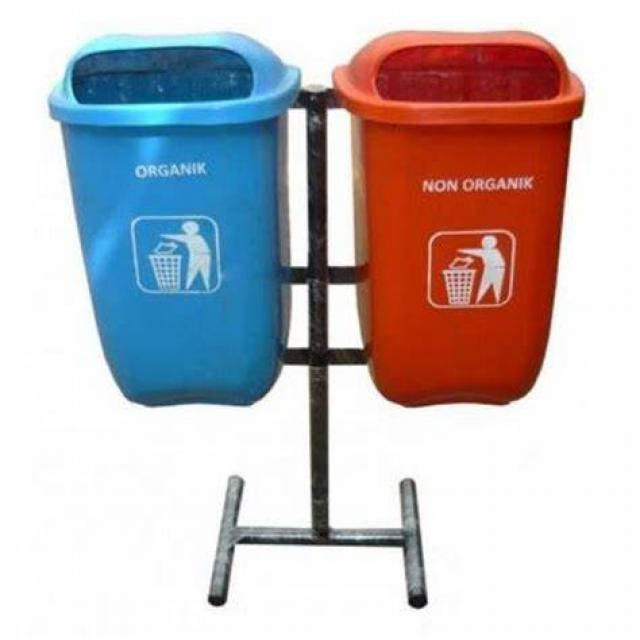garbage container: (35, 15, 327, 466), (338, 21, 614, 468)
